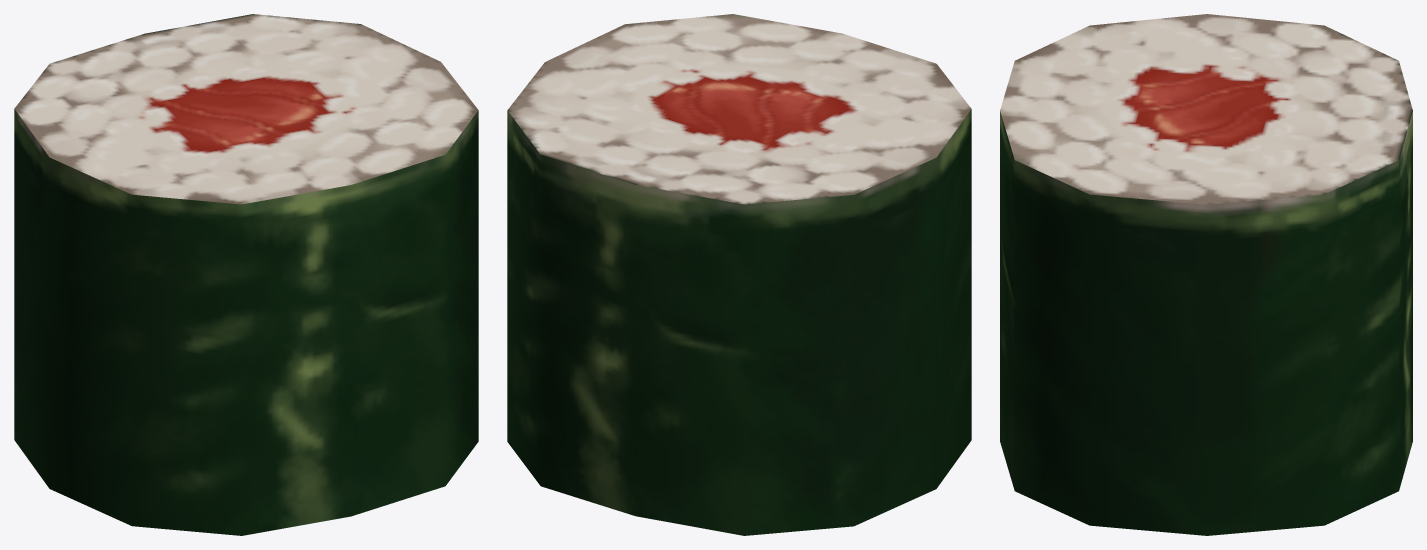
The model's file is SushisRoundMaguro.fbx.
3 views of the same model, side by side, from view 1: azimuth 30°, elevation 25°; view 2: azimuth 150°, elevation 25°; view 3: azimuth 270°, elevation 25° (orthographic).
Visible parts, largest first — view 1: SushisRoundMaguro; view 2: SushisRoundMaguro; view 3: SushisRoundMaguro.
Boxes of the visible parts, <box> form: SushisRoundMaguro: <box>14,14,478,535</box>; SushisRoundMaguro: <box>507,14,971,535</box>; SushisRoundMaguro: <box>1000,14,1412,535</box>.
Bounding box in the file's own units: 16.41 × 13.28 × 15.
